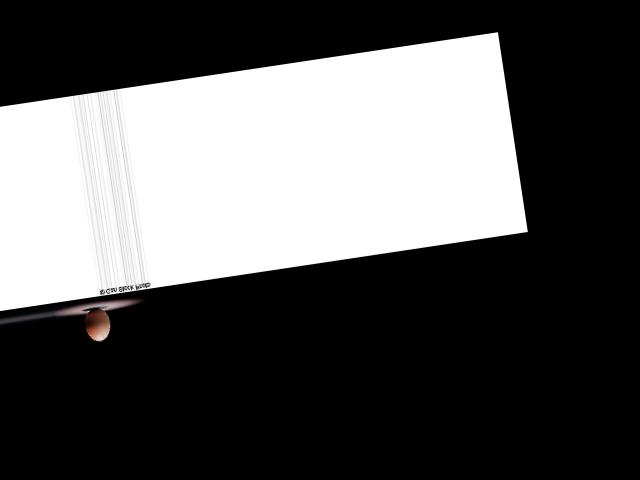egg: (82, 306, 113, 342)
